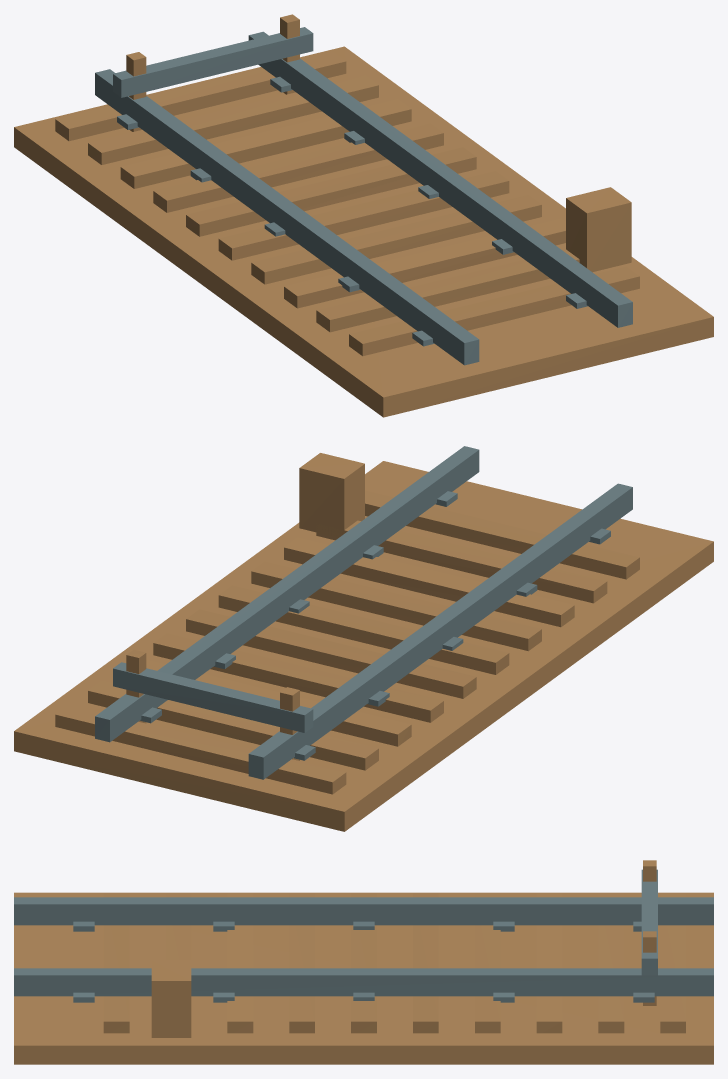
File: Railway-Siding.glb
3 renders of one model, top to bottom at view 1: azimuth 30°, elevation 25°; view 2: azimuth 150°, elevation 25°; view 3: azimuth 270°, elevation 25°, orthographic. The views are drawn at different scales.
Parts seen in each view (by area): view 1: railway-siding-static-rail-gravel-ballast, railway-siding-static-rail-sleeper-timber, railway-siding-static-rail-dark-metal, railway-siding-static-rail-service-teal, railway-siding-static-rail-galvanized; view 2: railway-siding-static-rail-gravel-ballast, railway-siding-static-rail-sleeper-timber, railway-siding-static-rail-dark-metal, railway-siding-static-rail-service-teal, railway-siding-static-rail-galvanized; view 3: railway-siding-static-rail-gravel-ballast, railway-siding-static-rail-dark-metal, railway-siding-static-rail-sleeper-timber, railway-siding-static-rail-service-teal, railway-siding-static-rail-galvanized.
Part boxes in pixels (left/top/right/bottom): railway-siding-static-rail-gravel-ballast: left=14, top=46, right=713, bottom=417; railway-siding-static-rail-sleeper-timber: left=55, top=51, right=639, bottom=356; railway-siding-static-rail-dark-metal: left=95, top=27, right=632, bottom=365; railway-siding-static-rail-service-teal: left=126, top=14, right=631, bottom=272; railway-siding-static-rail-galvanized: left=117, top=76, right=587, bottom=346; railway-siding-static-rail-gravel-ballast: left=14, top=461, right=713, bottom=831; railway-siding-static-rail-sleeper-timber: left=55, top=490, right=639, bottom=794; railway-siding-static-rail-dark-metal: left=95, top=446, right=632, bottom=779; railway-siding-static-rail-service-teal: left=126, top=453, right=364, bottom=760; railway-siding-static-rail-galvanized: left=140, top=491, right=610, bottom=760; railway-siding-static-rail-gravel-ballast: left=14, top=892, right=713, bottom=1064; railway-siding-static-rail-dark-metal: left=14, top=869, right=713, bottom=996; railway-siding-static-rail-sleeper-timber: left=103, top=893, right=685, bottom=1033; railway-siding-static-rail-service-teal: left=151, top=860, right=656, bottom=1037; railway-siding-static-rail-galvanized: left=73, top=921, right=654, bottom=1002.
Bounding box in the file's own units: 3.1 × 0.845 × 6.
